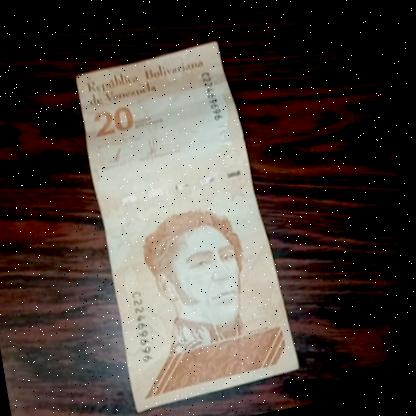twenty-front-vef: (52, 30, 329, 416)
